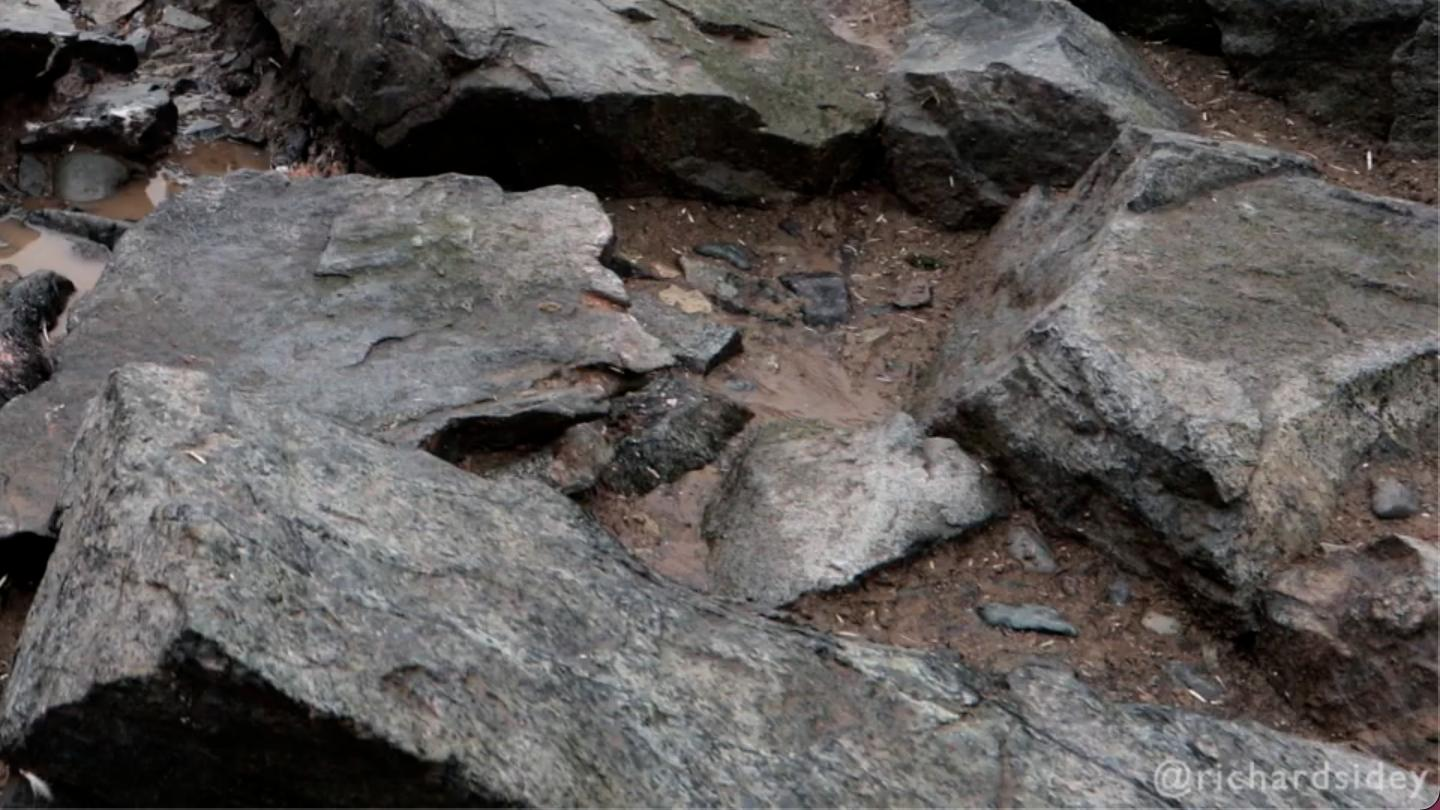Chinstrap Penguin: (0, 0, 12, 184)
